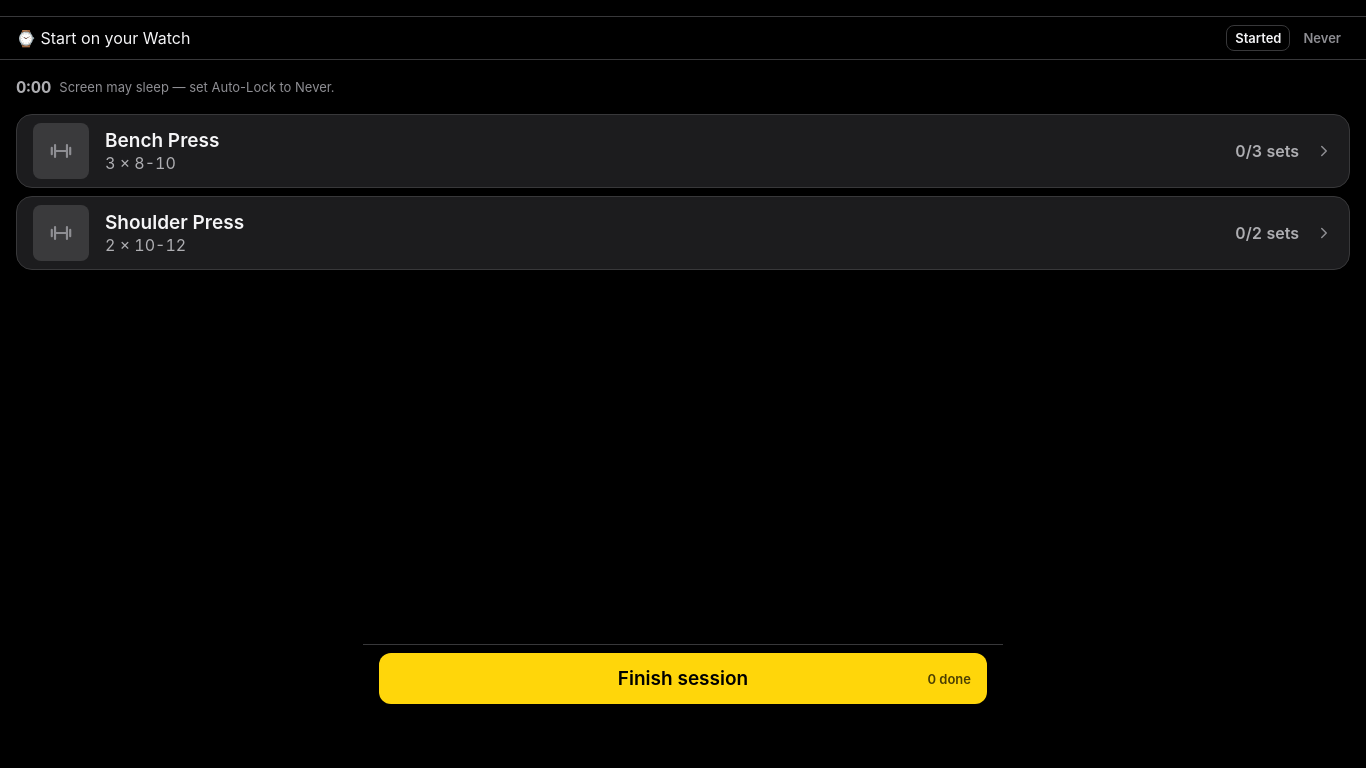
Test case: SessionRunner — the exercise index › shows live progress and ticks an exercise off once every set is done
Expected: the text "Bench Press" is shown, x1=105 y1=129 x2=219 y2=152
Step 1. Click the button with class "exindex-row" that starts with "Shoulder Press" → (61, 233), box x1=16 y1=196 x2=1350 y2=270
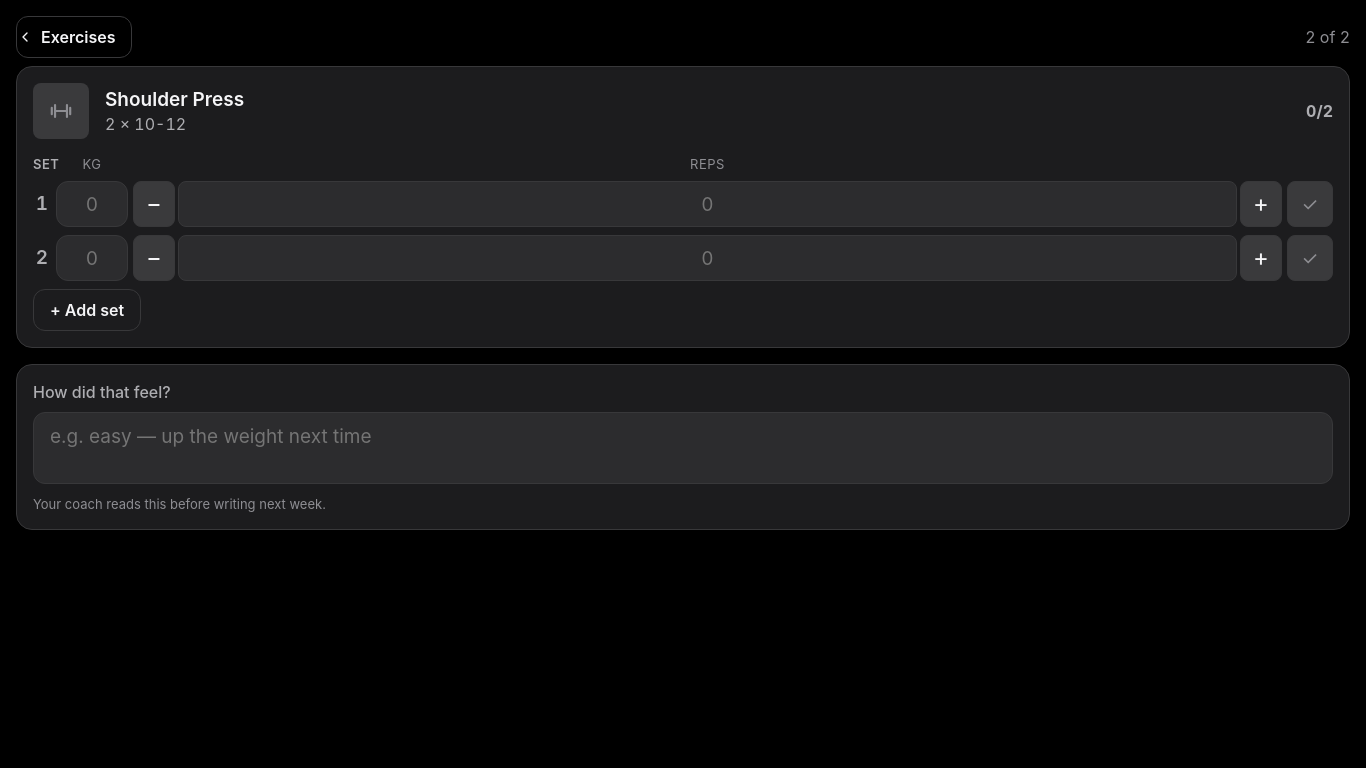
Now the number field named "Set 1 weight" is shown, box x1=56 y1=181 x2=128 y2=227
Step 2. Click the 1st button with class "set-row__tick" → (1310, 204), box x1=1287 y1=181 x2=1333 y2=227
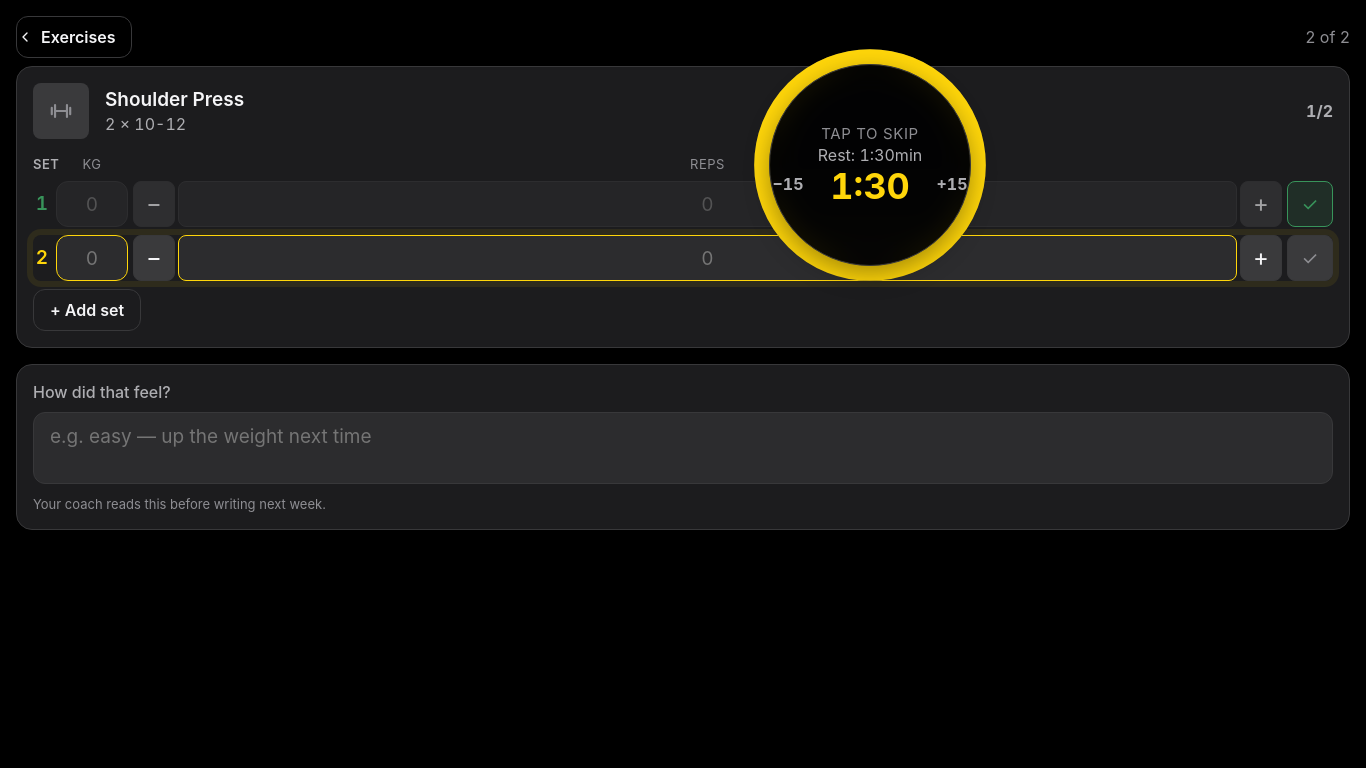
Step 3. Click the button with aria-label "Back to exercises" → (74, 37), box x1=16 y1=16 x2=132 y2=58
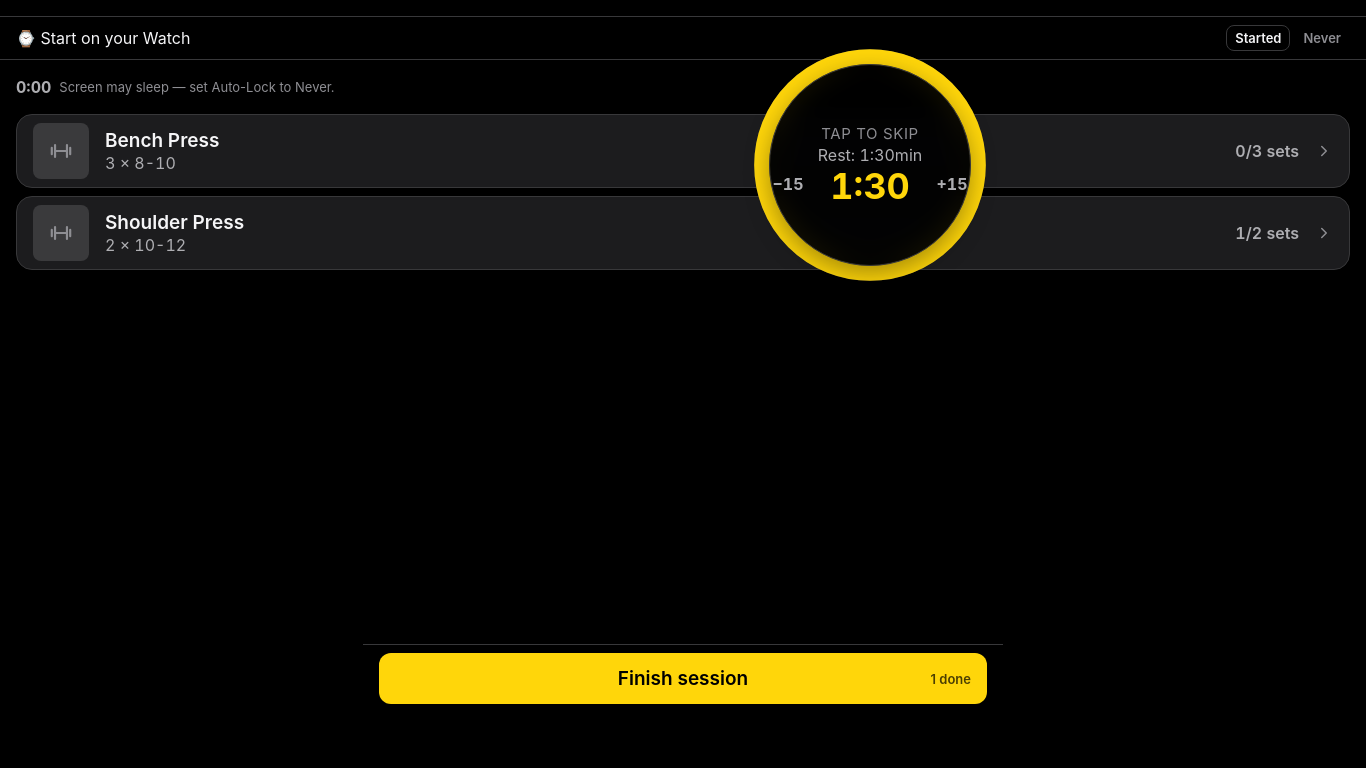
Now the text "1/2 sets" is shown, box x1=1235 y1=223 x2=1299 y2=243
Step 4. Click the button with class "exindex-row" that starts with "Shoulder Press" → (61, 233), box x1=16 y1=196 x2=1350 y2=270
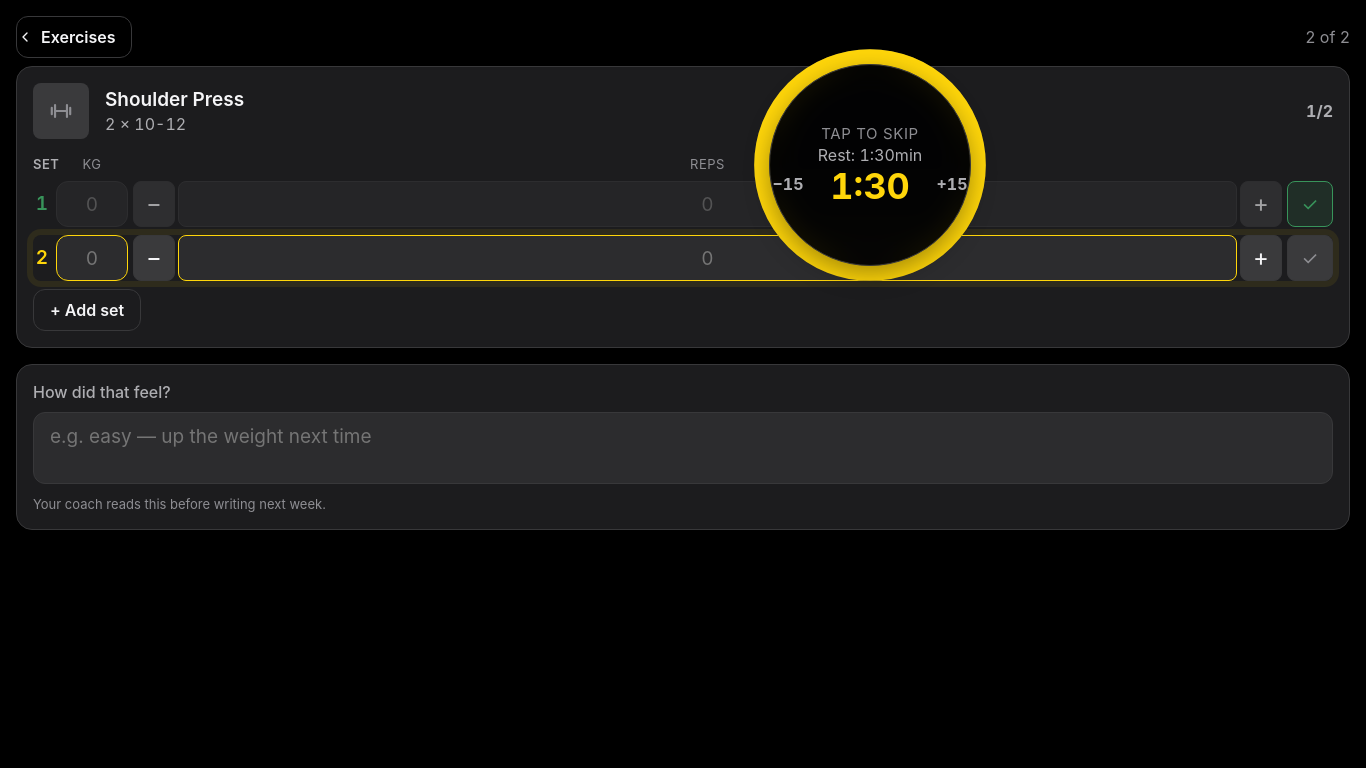
Now the number field named "Set 1 weight" is shown, box x1=56 y1=181 x2=128 y2=227
Step 5. Click the 2nd button with class "set-row__tick" → (1310, 258), box x1=1287 y1=235 x2=1333 y2=281
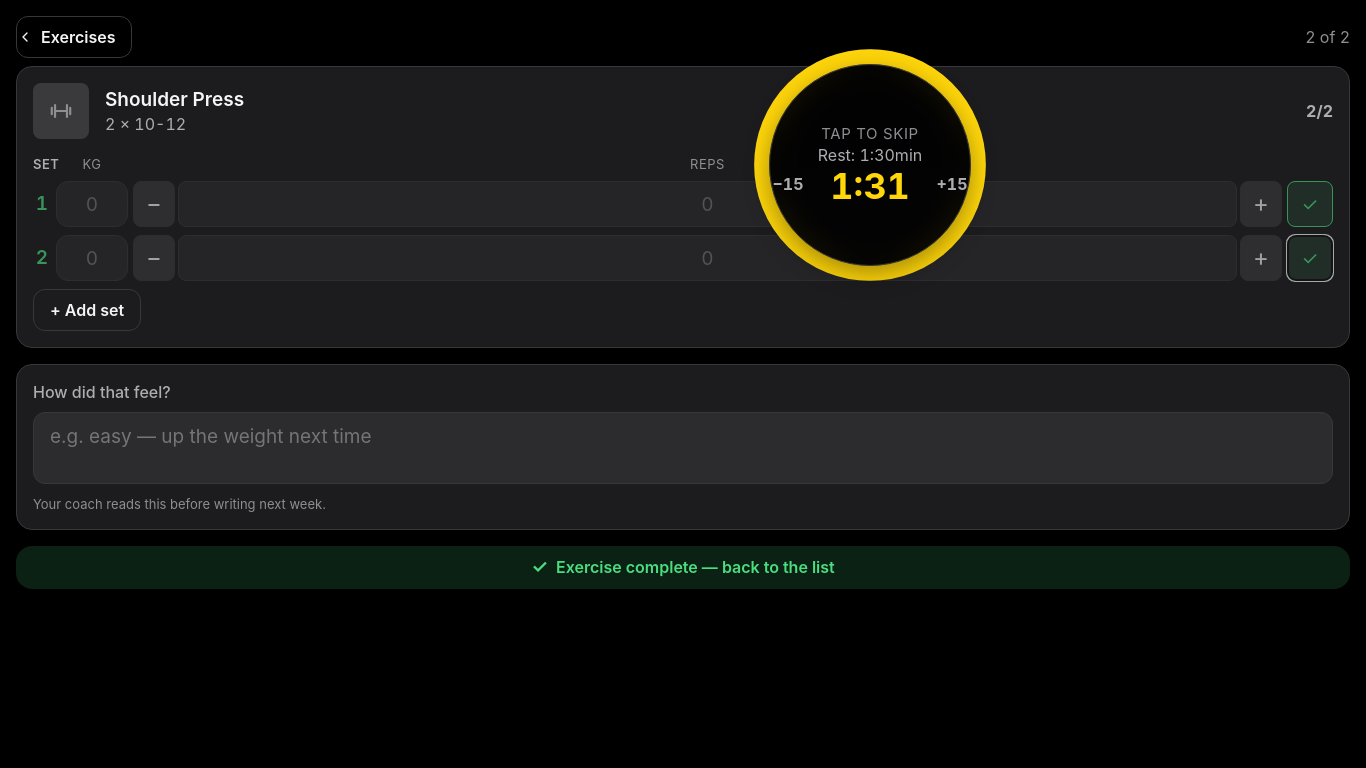
Step 6. Click the button with aria-label "Back to exercises" → (74, 37), box x1=16 y1=16 x2=132 y2=58
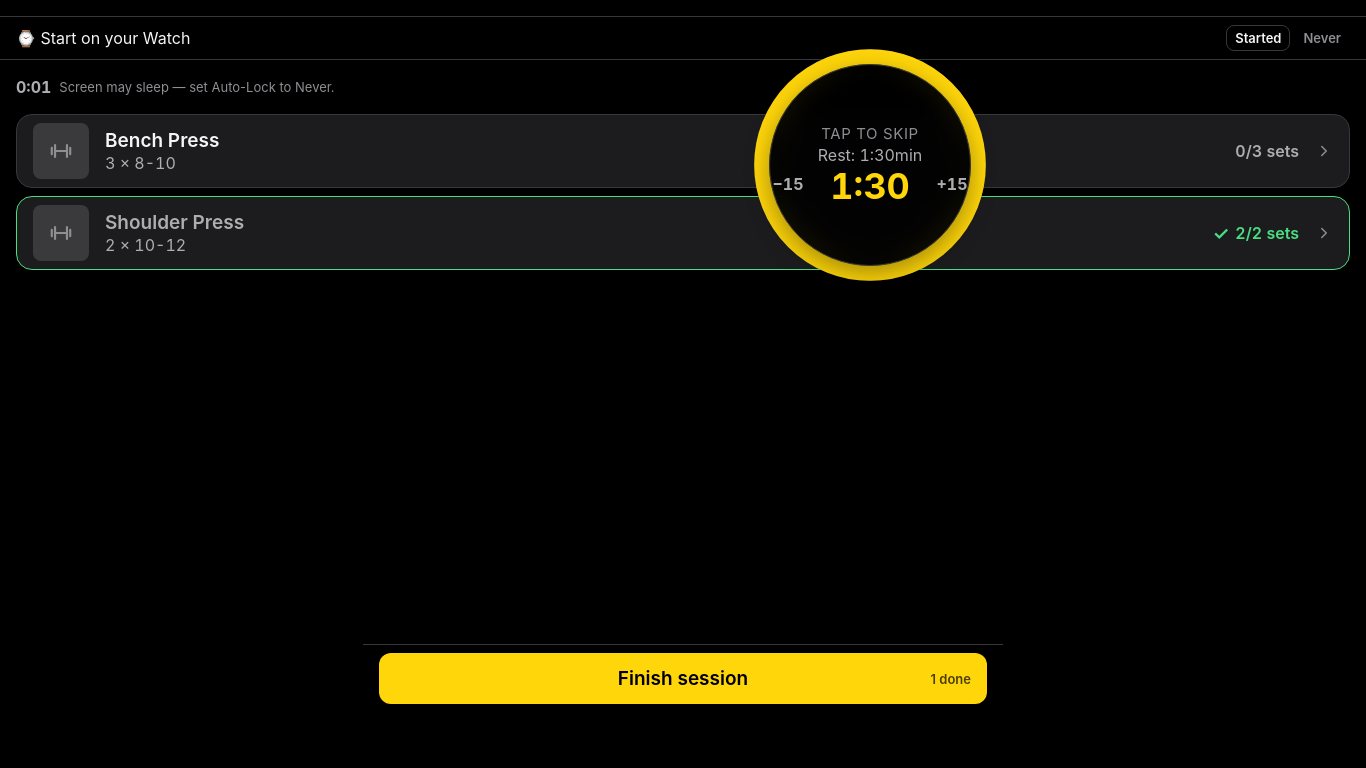
Now the text "2/2 sets" is shown, box x1=1235 y1=223 x2=1299 y2=243
